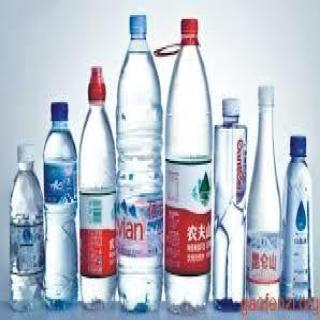Plastic-bottle: (166, 16, 216, 315), (116, 13, 165, 316), (80, 64, 122, 316), (44, 102, 79, 316), (10, 143, 46, 315)
